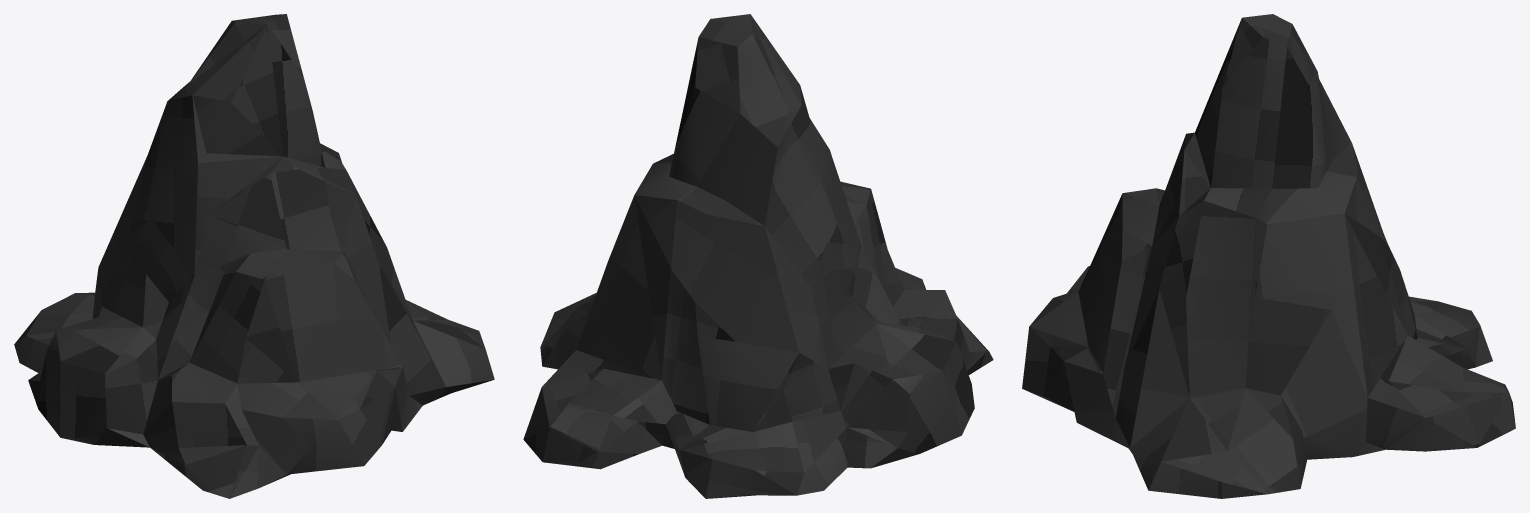
File: sea-stack-tall.collision.glb
The picture shows the model from 3 angles, left to right: view 1: azimuth 30°, elevation 25°; view 2: azimuth 150°, elevation 25°; view 3: azimuth 270°, elevation 25°; orthographic projection. The views are drawn at different scales.
Parts seen in each view (by area): view 1: output_unwrapped; view 2: output_unwrapped; view 3: output_unwrapped.
Boxes of the visible parts, <box> form: output_unwrapped: <box>14,14,494,498</box>; output_unwrapped: <box>523,14,993,498</box>; output_unwrapped: <box>1022,14,1515,498</box>.
Bounding box in the file's own units: 1.83 × 1.57 × 1.83.
Materials: 1 (1 with a texture image).
